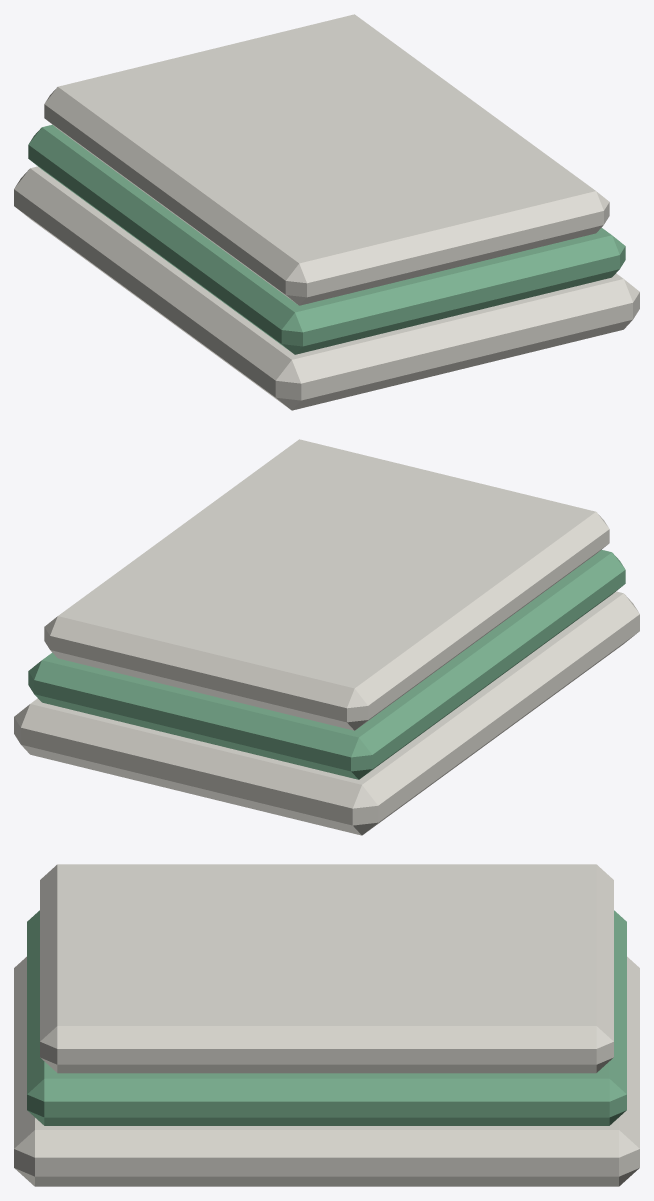
File: feudal-japan-castle-town-bedding-stack-3a670997__26494.glb
3 views of the same model, one above another, from view 1: azimuth 30°, elevation 25°; view 2: azimuth 150°, elevation 25°; view 3: azimuth 270°, elevation 25° (orthographic). The views are drawn at different scales.
Visible parts, largest first — view 1: bedding-stack; view 2: bedding-stack; view 3: bedding-stack.
Boxes of the visible parts, box(x1,y1,x2,y2) form: bedding-stack: box(14, 14, 639, 410); bedding-stack: box(14, 439, 639, 835); bedding-stack: box(14, 864, 639, 1186).
Size of the model in its own units: 0.9 by 0.32 by 1.2.
